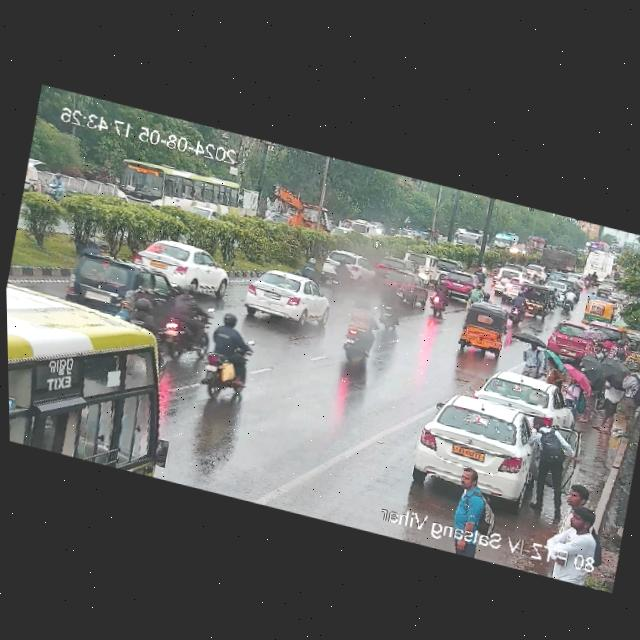bus: (6, 285, 180, 478), (114, 156, 247, 223), (581, 247, 623, 286), (451, 226, 493, 253), (493, 229, 520, 252)
car: (409, 391, 562, 512), (58, 249, 166, 324), (472, 364, 574, 429), (241, 264, 332, 336), (139, 233, 230, 300), (457, 300, 508, 356), (546, 318, 602, 361), (317, 246, 373, 285), (378, 267, 430, 304), (376, 251, 416, 287), (584, 322, 626, 353), (440, 268, 481, 299), (517, 280, 551, 317), (403, 251, 441, 282), (584, 297, 616, 328), (499, 275, 531, 303), (495, 270, 524, 296), (351, 218, 379, 238), (596, 278, 621, 299), (326, 223, 355, 241), (525, 264, 546, 282)
motorcycle: (199, 310, 253, 405), (159, 279, 210, 361), (340, 297, 383, 366), (376, 281, 408, 334), (329, 256, 355, 304), (44, 169, 71, 202), (428, 279, 450, 318), (507, 290, 527, 329), (301, 256, 321, 285), (563, 288, 578, 316), (547, 287, 561, 313), (584, 272, 595, 289)
person: (537, 478, 604, 583), (442, 465, 500, 555), (592, 375, 625, 441), (615, 360, 640, 436), (517, 340, 544, 376), (563, 372, 585, 414), (539, 355, 565, 389)
truck: (538, 246, 582, 274), (525, 235, 545, 254)
